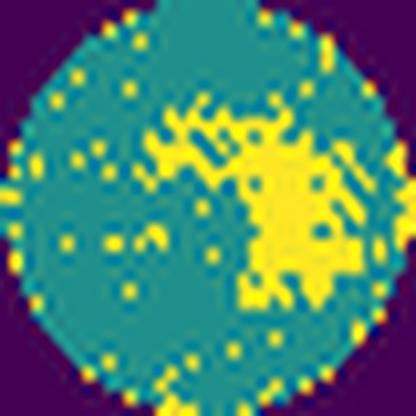Loc: (143, 92, 368, 315)
